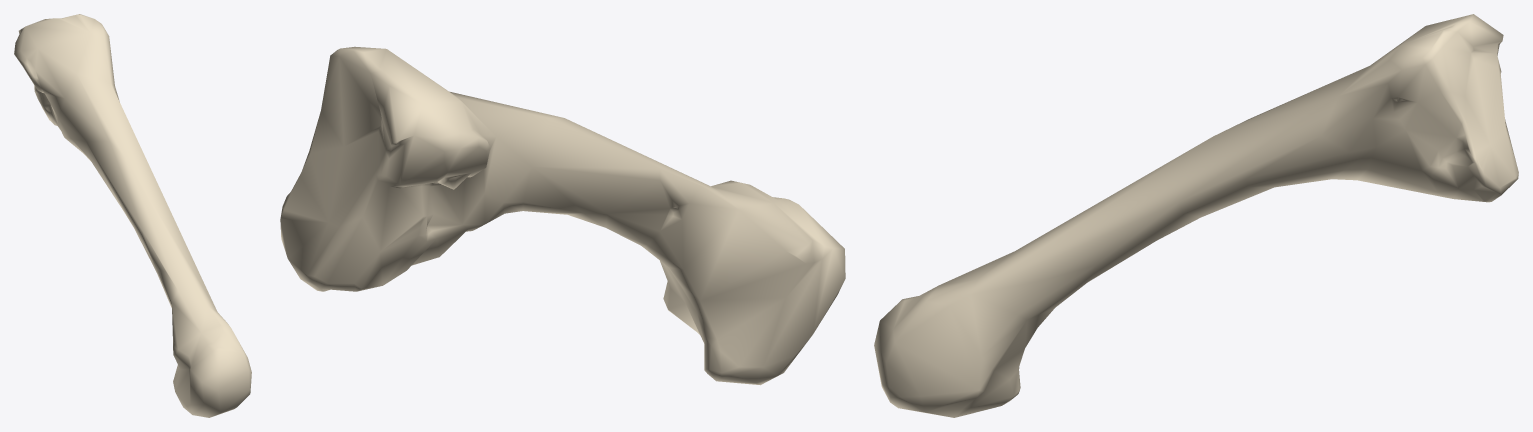
Rendered from second-metatarsal-bone-r.glb.
3 views of the same model, side by side, from view 1: azimuth 30°, elevation 25°; view 2: azimuth 150°, elevation 25°; view 3: azimuth 270°, elevation 25° (orthographic). The views are drawn at different scales.
Parts seen in each view (by area): view 1: Second metatarsal bone.r; view 2: Second metatarsal bone.r; view 3: Second metatarsal bone.r.
Boxes of the visible parts, bbox=[...] form: Second metatarsal bone.r: bbox=[14, 14, 251, 417]; Second metatarsal bone.r: bbox=[280, 46, 845, 385]; Second metatarsal bone.r: bbox=[874, 14, 1518, 417].
Bounding box in the file's own units: 0.0174 × 0.0499 × 0.0705.
